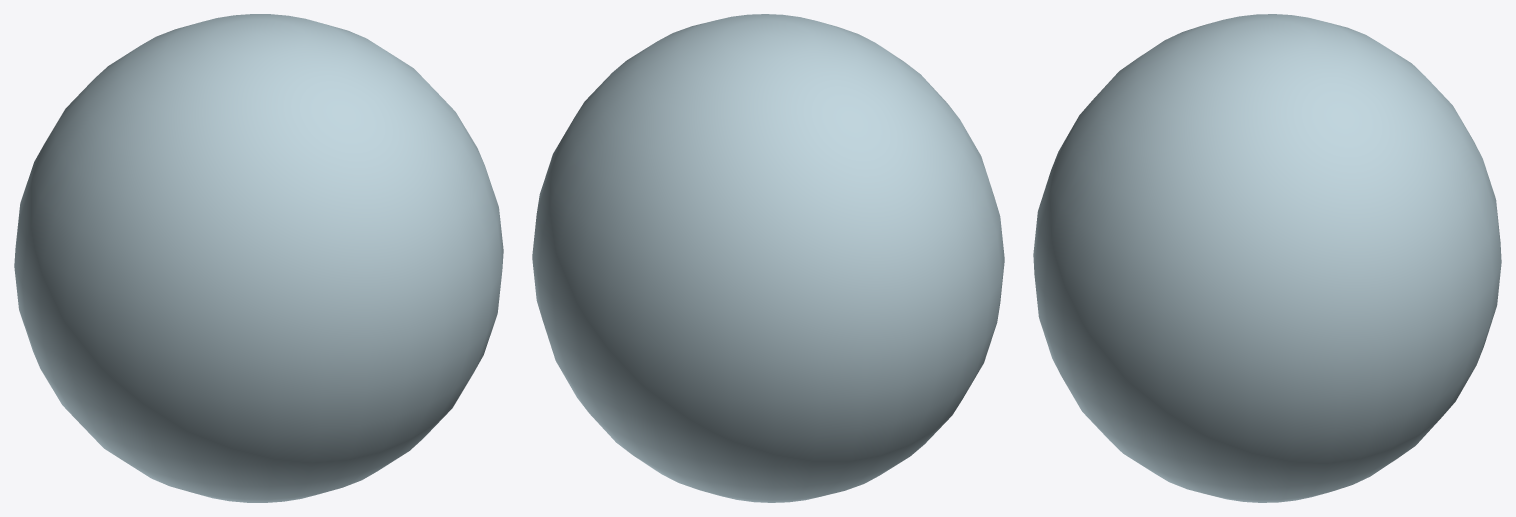
The model's file is Electron.fbx.
3 renders of one model, left to right at view 1: azimuth 30°, elevation 25°; view 2: azimuth 150°, elevation 25°; view 3: azimuth 270°, elevation 25°, orthographic.
Visible parts, largest first — view 1: Sphere; view 2: Sphere; view 3: Sphere.
Boxes of the visible parts, x1,y1,x2,y2 form: Sphere: (14,14,503,502); Sphere: (532,14,1004,502); Sphere: (1033,14,1501,502).
Size of the model in its own units: 23.97 by 24.35 by 23.23.
